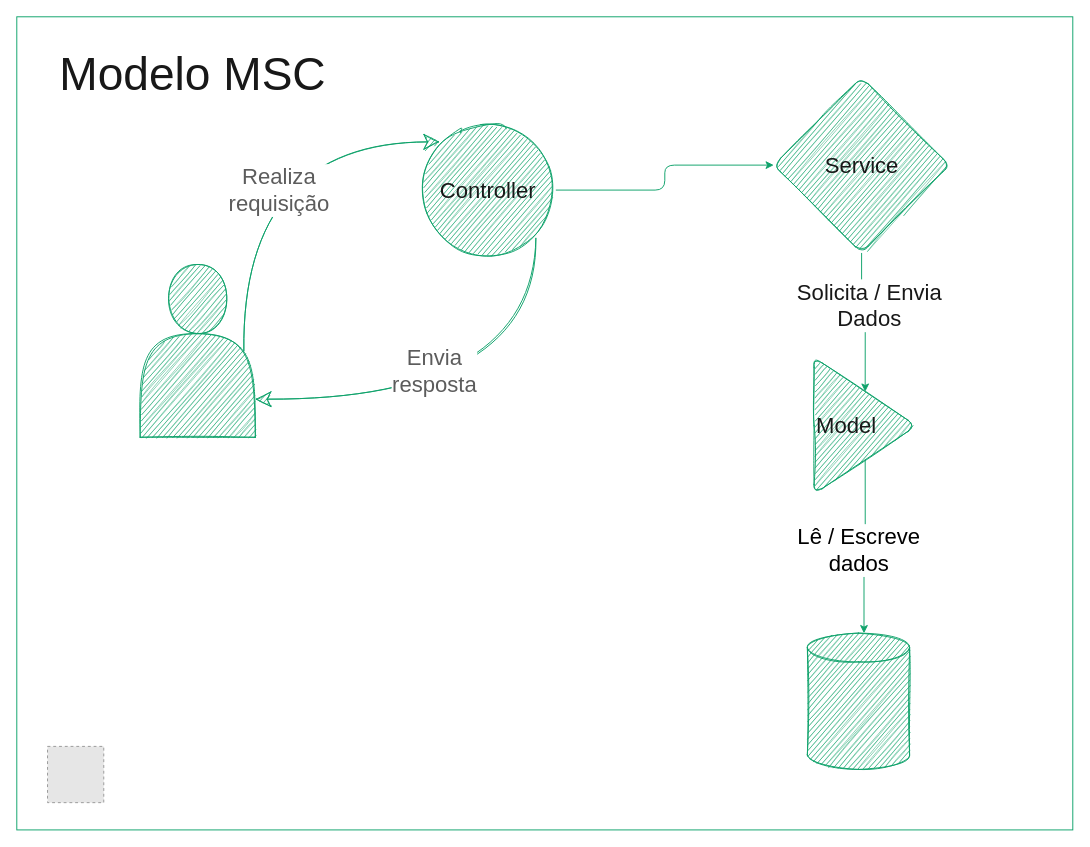
This 1090x847 diagram has some shape labels left out. Grey dashed boxes stand in for pictures. The box of each missing label's shape, as (x1, y1, x2, y2) in pixels:
Banco de dados: (806, 632, 910, 769)
User: (139, 264, 255, 437)
